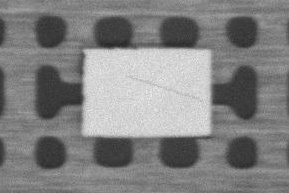DIE_CRACK: (192, 51, 289, 67)
